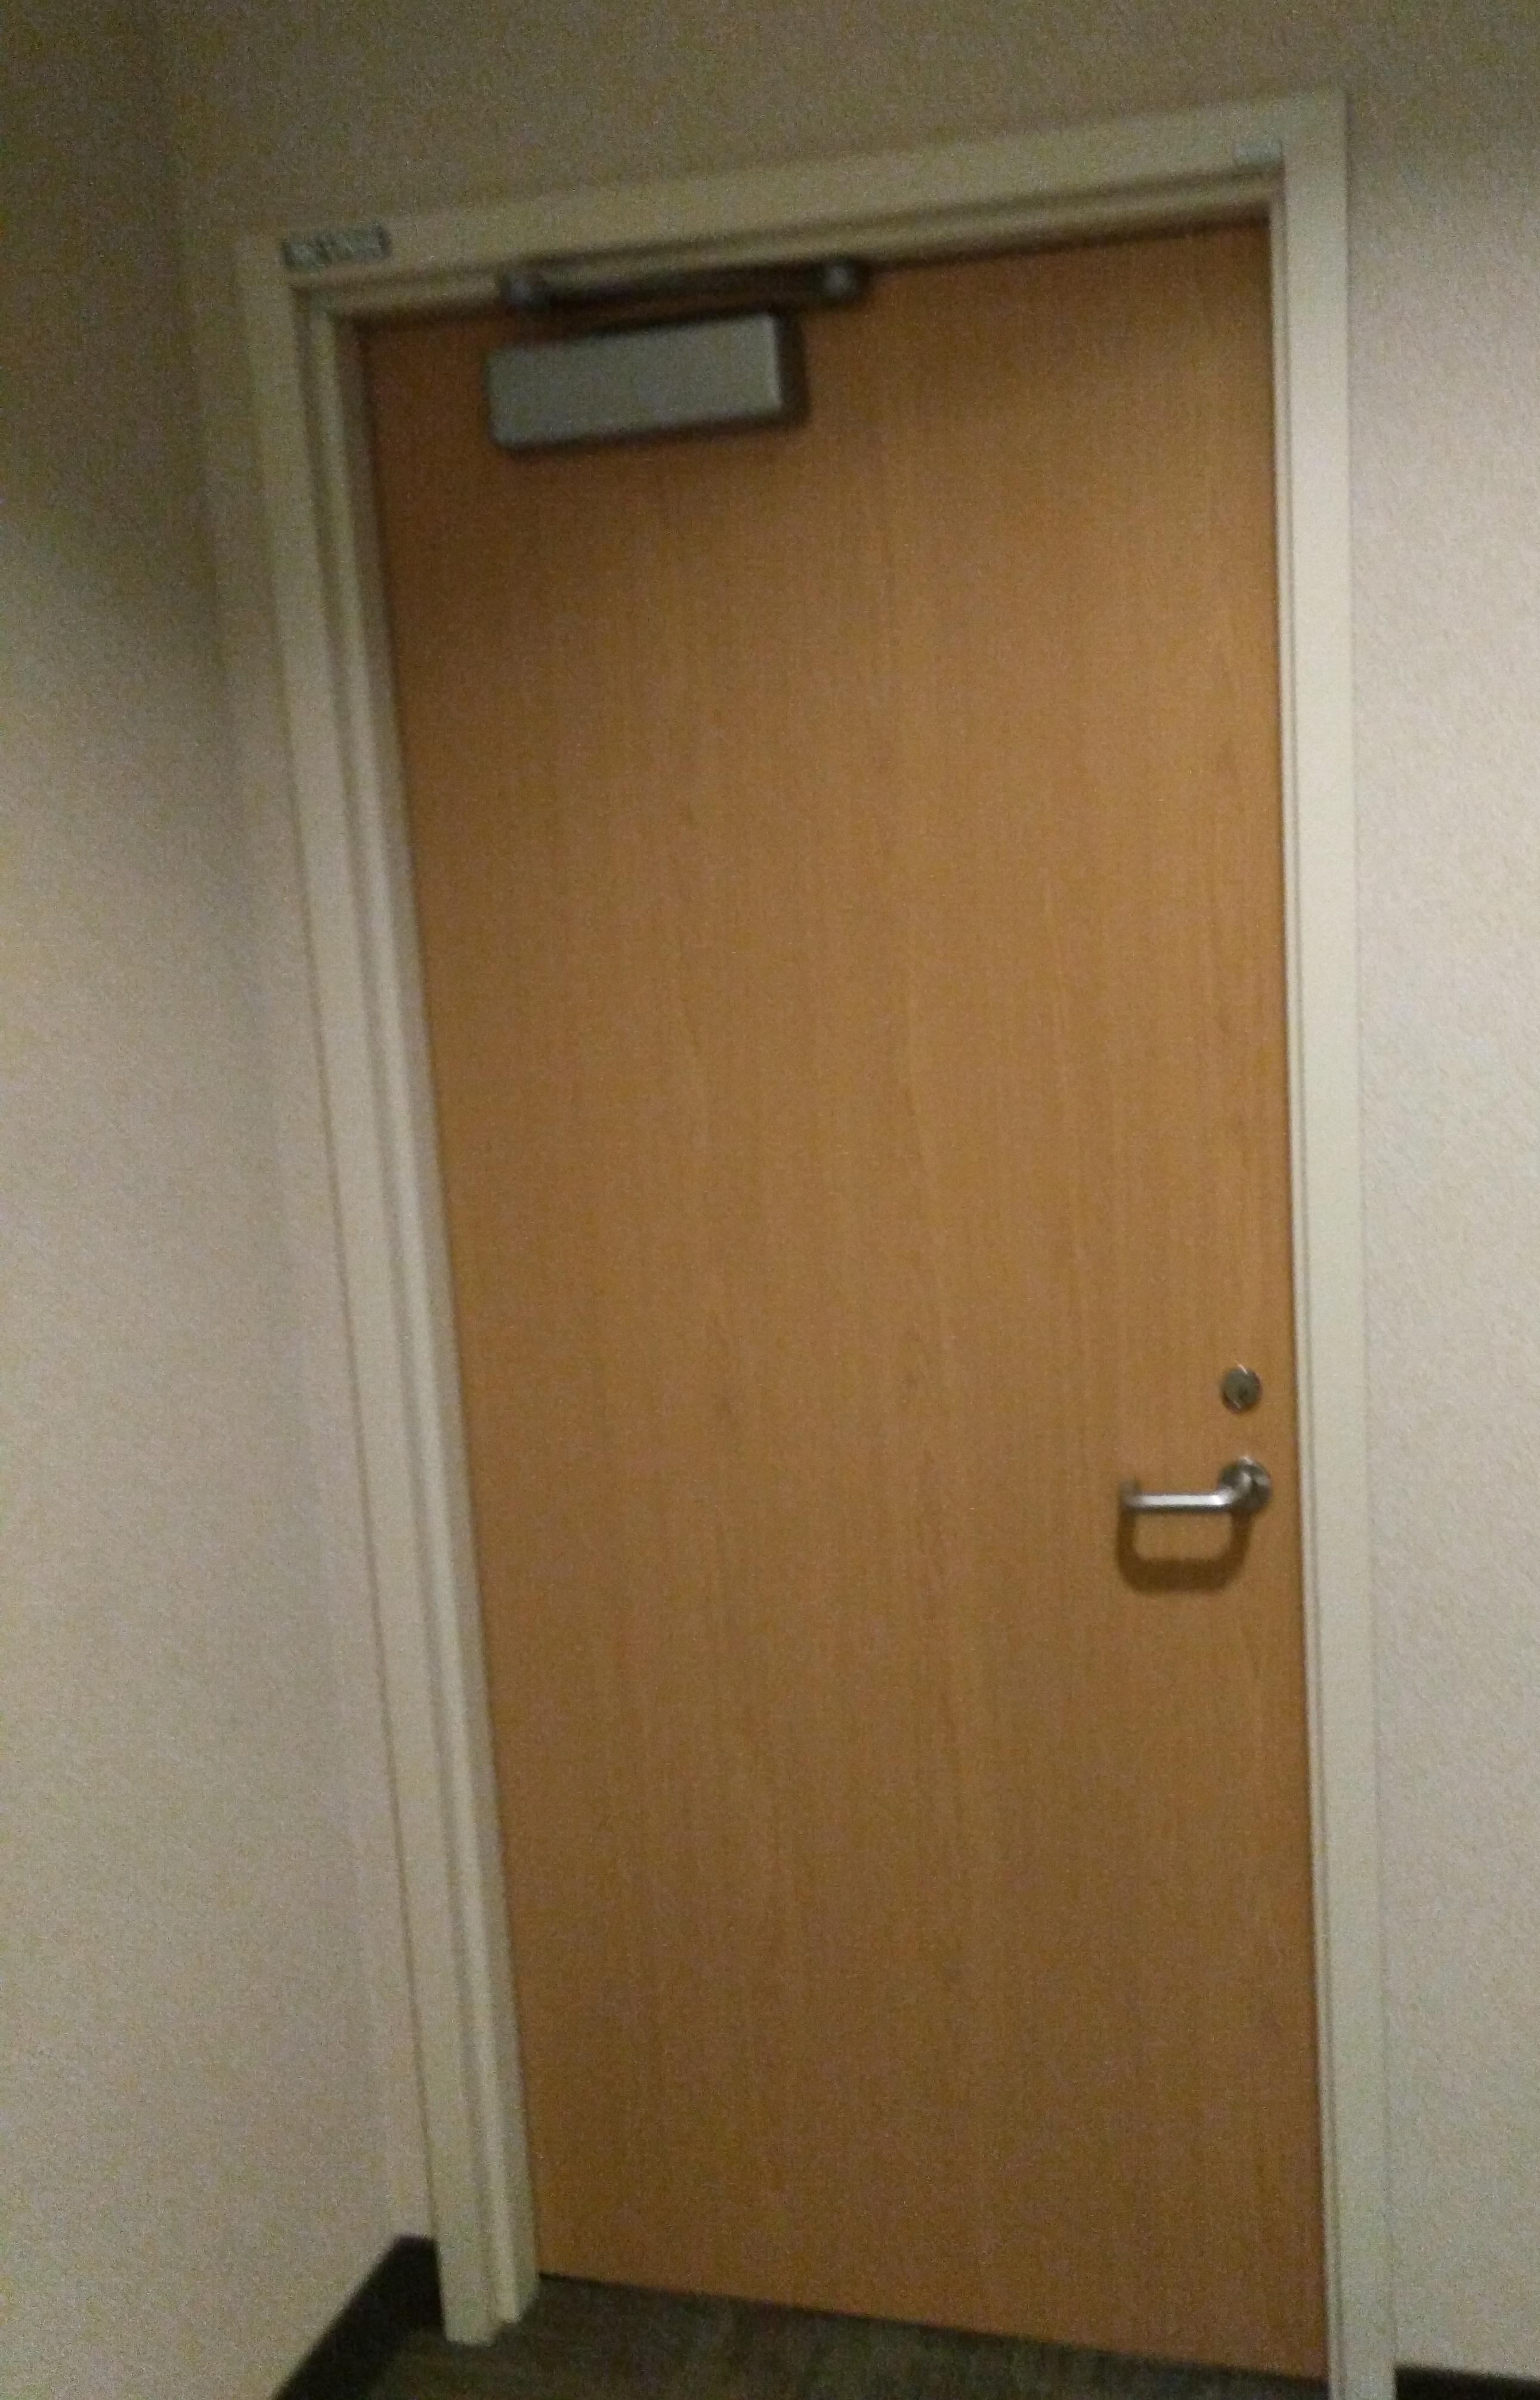door: (347, 212, 1328, 2327)
